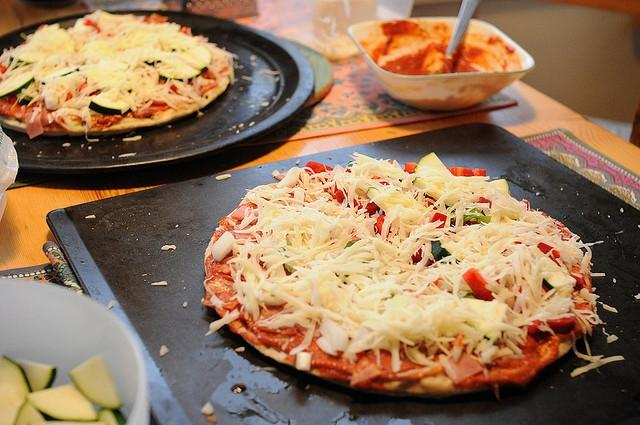vegetable marrow: (68, 354, 122, 410), (27, 383, 99, 421), (1, 354, 34, 424), (159, 44, 213, 82), (15, 358, 58, 392), (42, 62, 86, 85), (414, 152, 452, 177), (14, 398, 46, 424), (0, 76, 35, 98), (89, 92, 122, 115), (366, 187, 388, 214), (98, 408, 126, 425), (543, 278, 568, 290), (489, 179, 509, 193), (15, 92, 32, 102), (144, 59, 160, 66)
